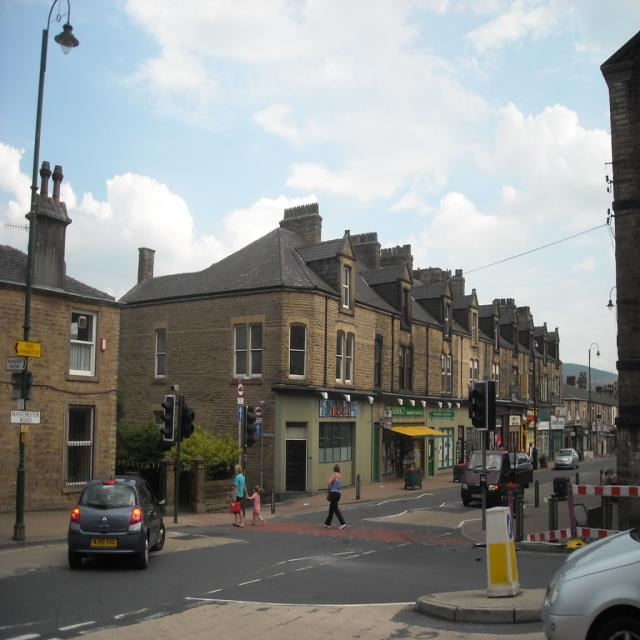car: (66, 472, 165, 570), (551, 443, 578, 469)
